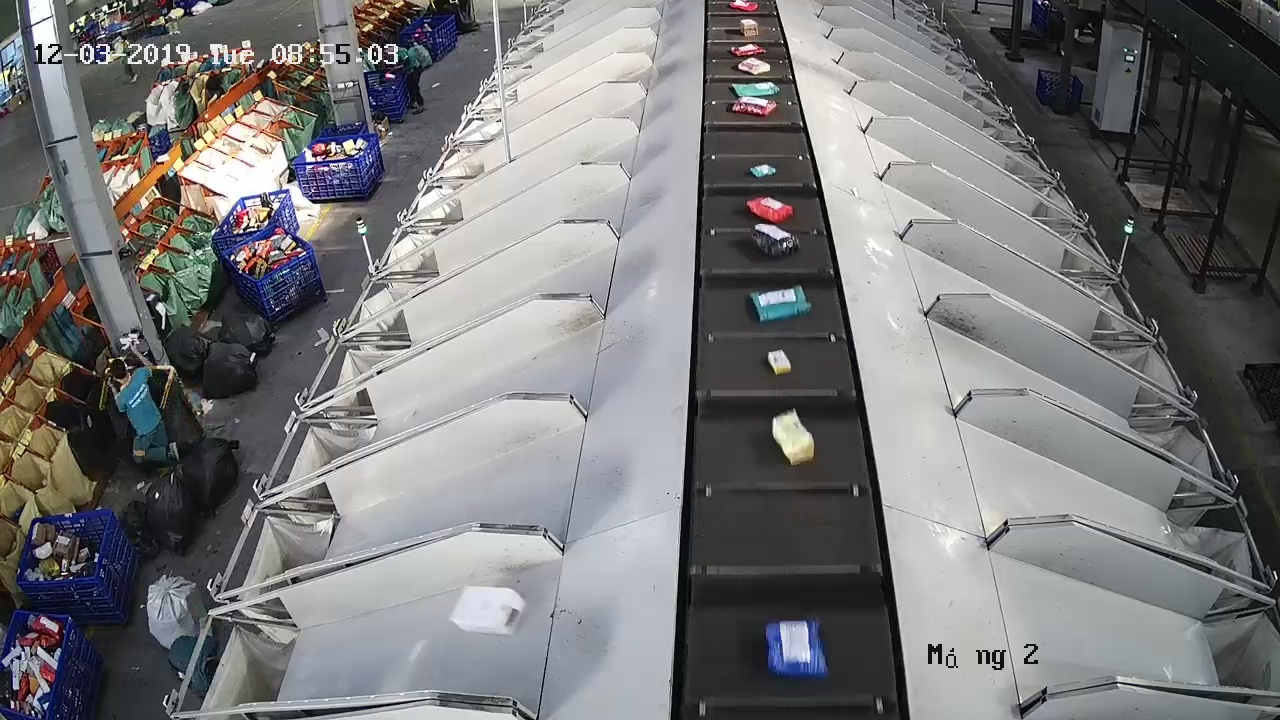parcel: (449, 584, 526, 636), (764, 619, 830, 679), (771, 408, 815, 467), (749, 284, 812, 324), (751, 222, 801, 261), (745, 194, 795, 224), (766, 347, 793, 376), (748, 162, 777, 179)
